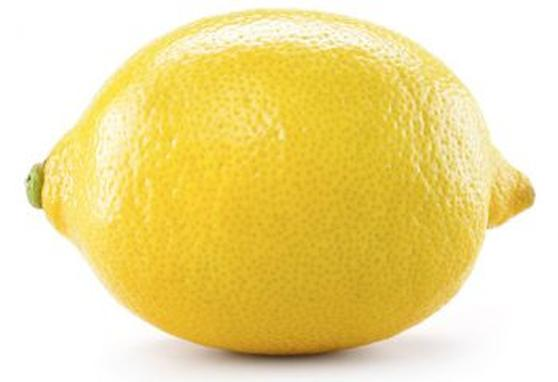lemon: (33, 14, 535, 358)
